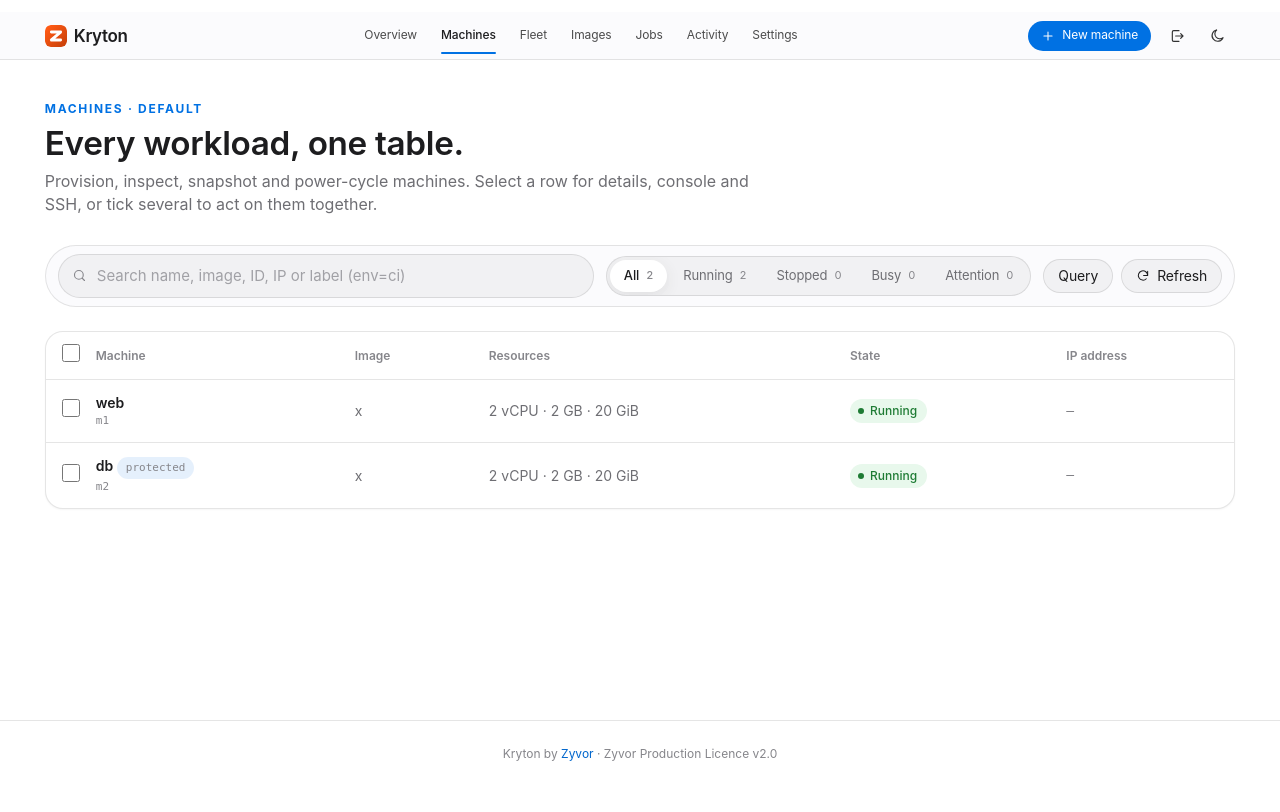
machines page › queries the server by selector and state
Expected: the checkbox named "Select web" is shown, [62, 399, 80, 417]
Click the button "Query" at (1078, 276), box [1043, 259, 1113, 293]
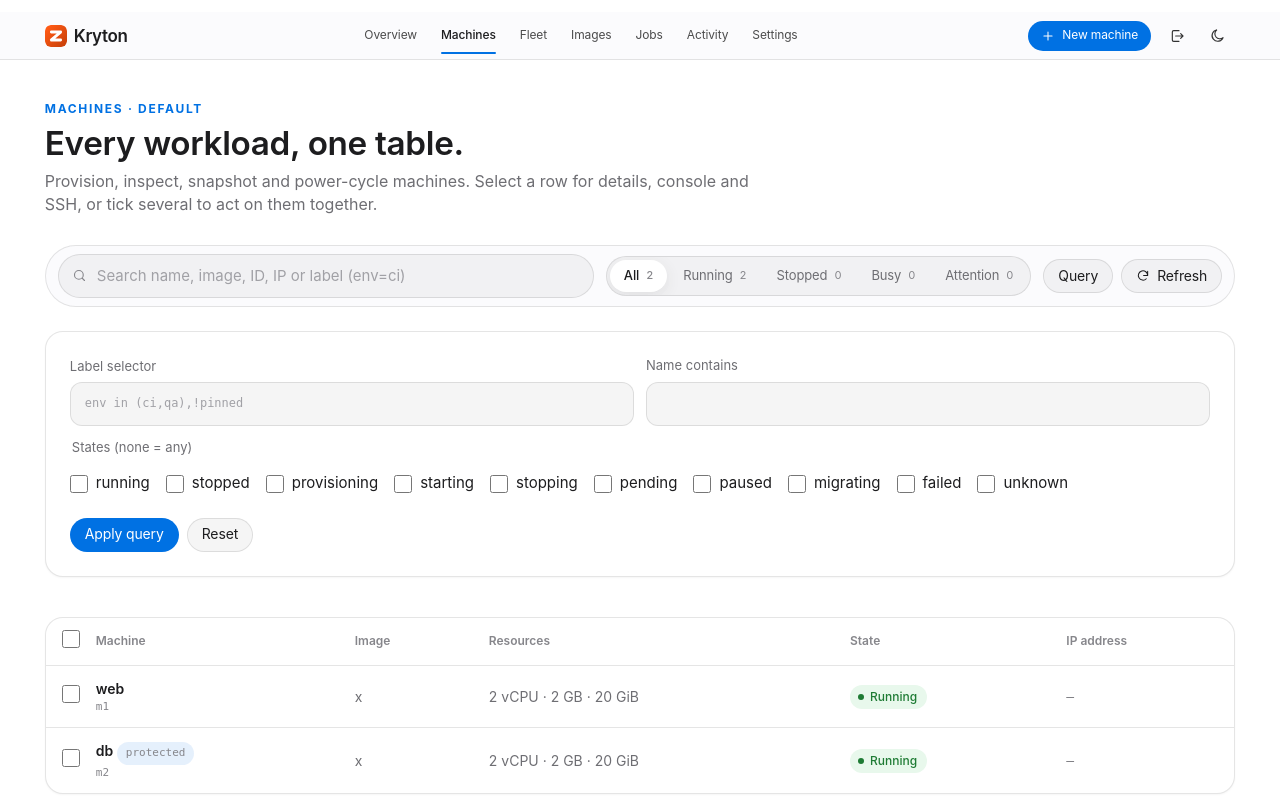
Type "team=core" into the field labelled "Label selector" at (352, 404), box [70, 382, 634, 426]
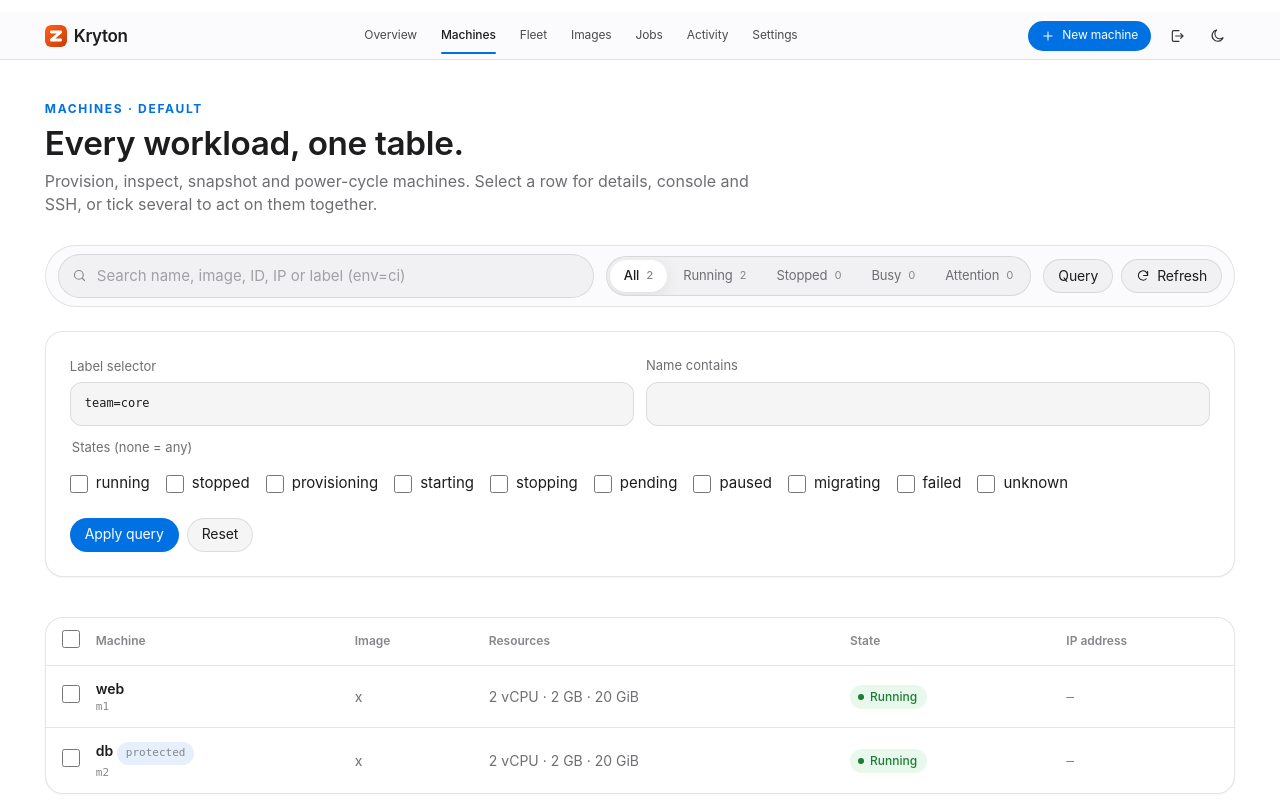
Click the checkbox labelled "running" at (79, 484), box [70, 475, 88, 493]
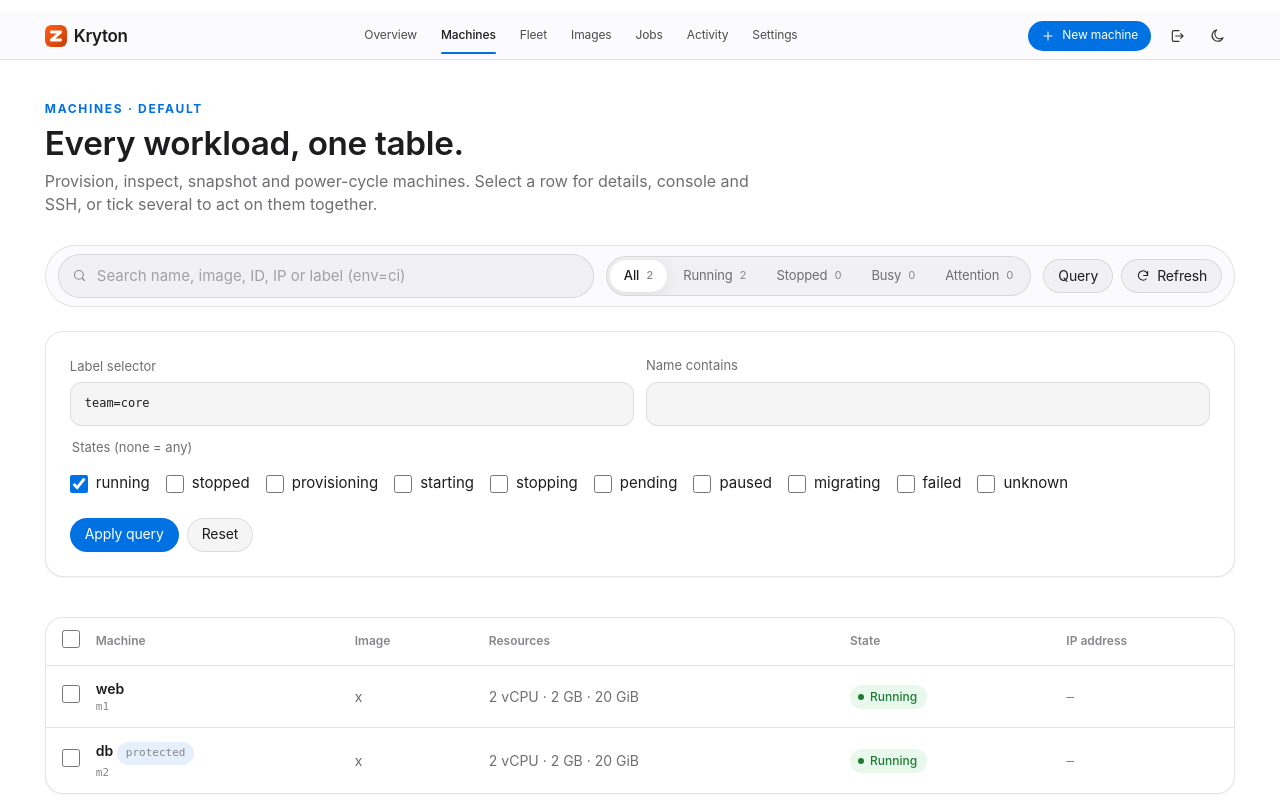
Click the button "Apply query" at (124, 535), box [70, 518, 179, 552]
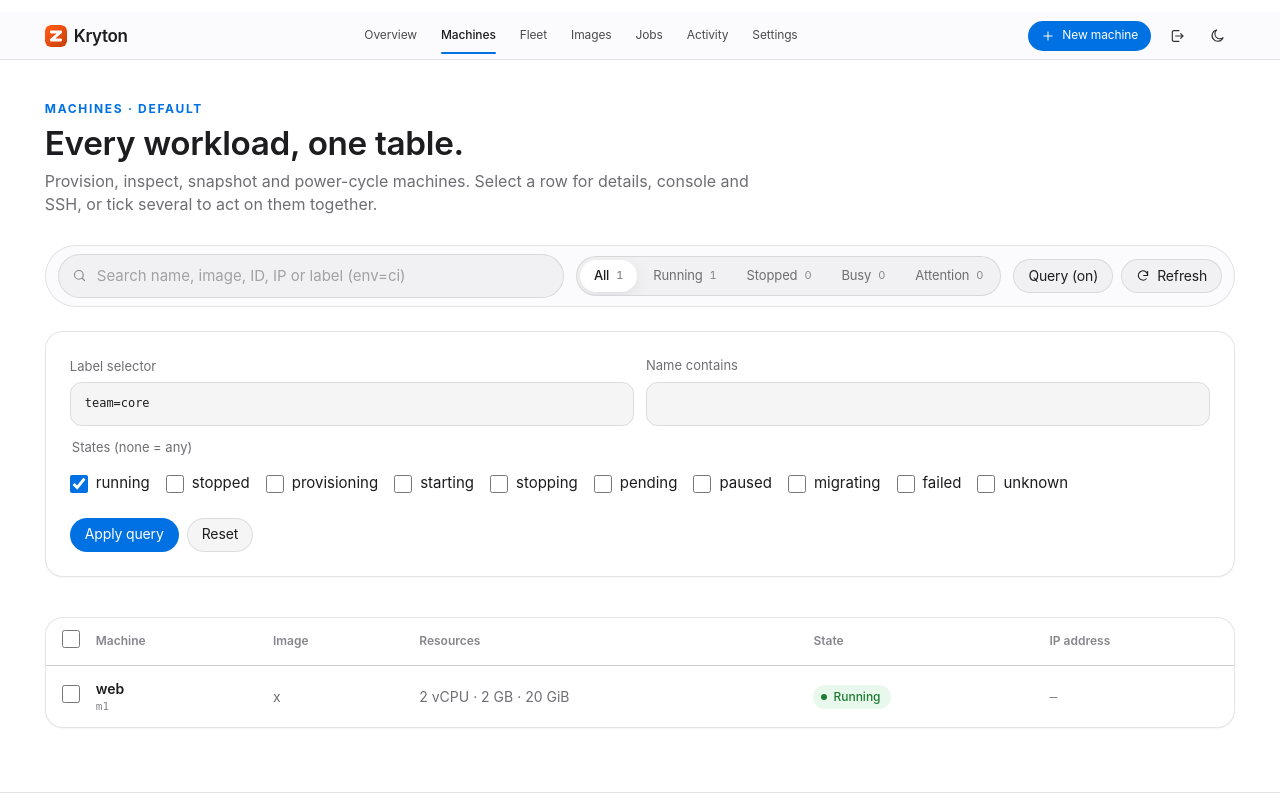
Click the button "Reset" at (220, 535), box [187, 518, 253, 552]
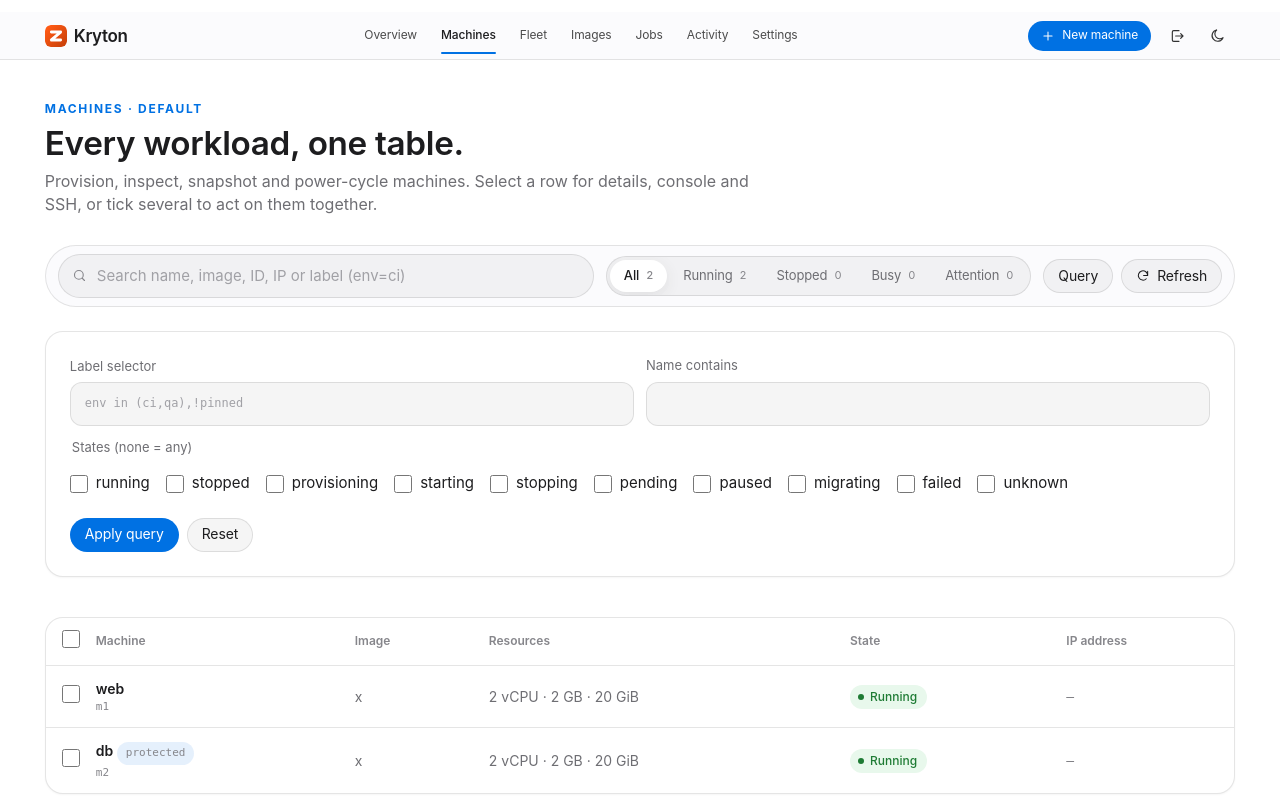
Expected: the checkbox named "Select db" is shown, [62, 749, 80, 767]
